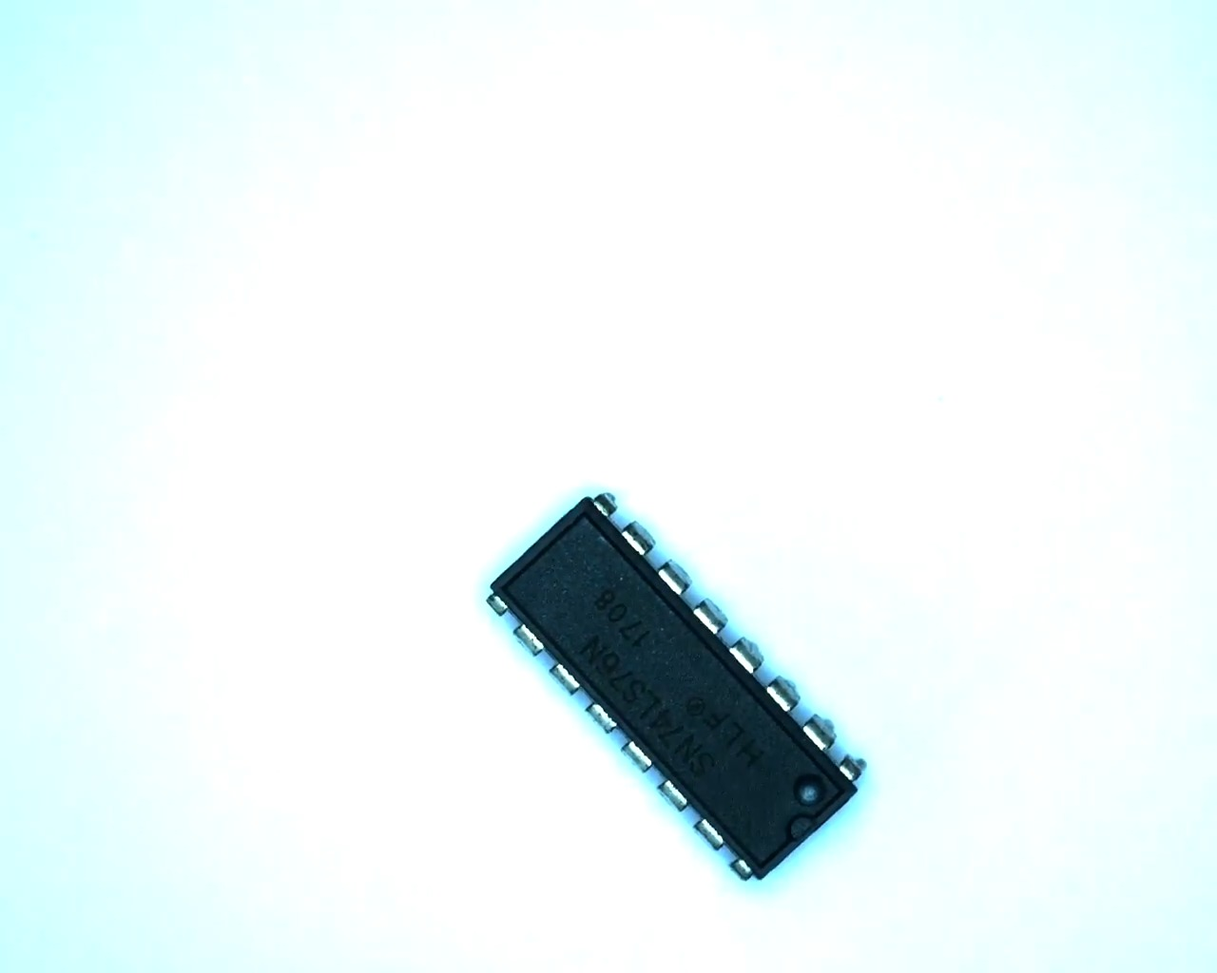IC: (471, 479, 888, 909)
notch: (784, 812, 819, 846)
